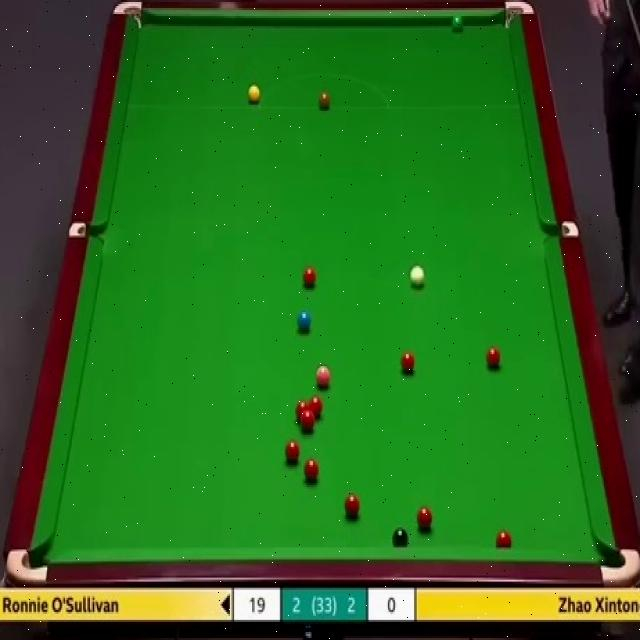black-ball: (390, 527, 408, 550)
blue-ball: (296, 310, 312, 335)
brown-ball: (316, 89, 331, 112)
green-ball: (451, 13, 466, 32)
pink-ball: (316, 362, 332, 388)
red-ball: (302, 458, 320, 486), (342, 493, 360, 520), (400, 349, 417, 377), (416, 506, 432, 533), (284, 438, 300, 464), (302, 267, 318, 291), (486, 345, 501, 370), (310, 396, 324, 421), (497, 528, 512, 548), (296, 400, 309, 421), (302, 412, 314, 432)
white-ball: (408, 262, 426, 290)
yellow-ball: (246, 84, 260, 104)
